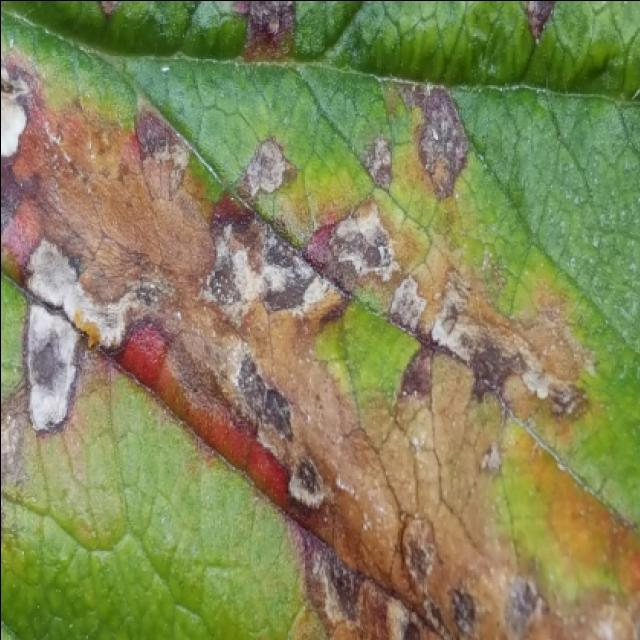Angular Leafspot: (0, 2, 638, 640)
